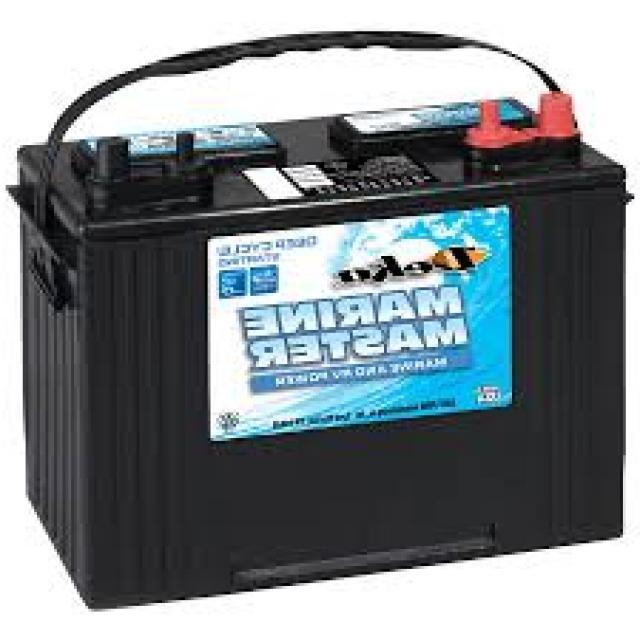battery: (4, 35, 637, 608)
